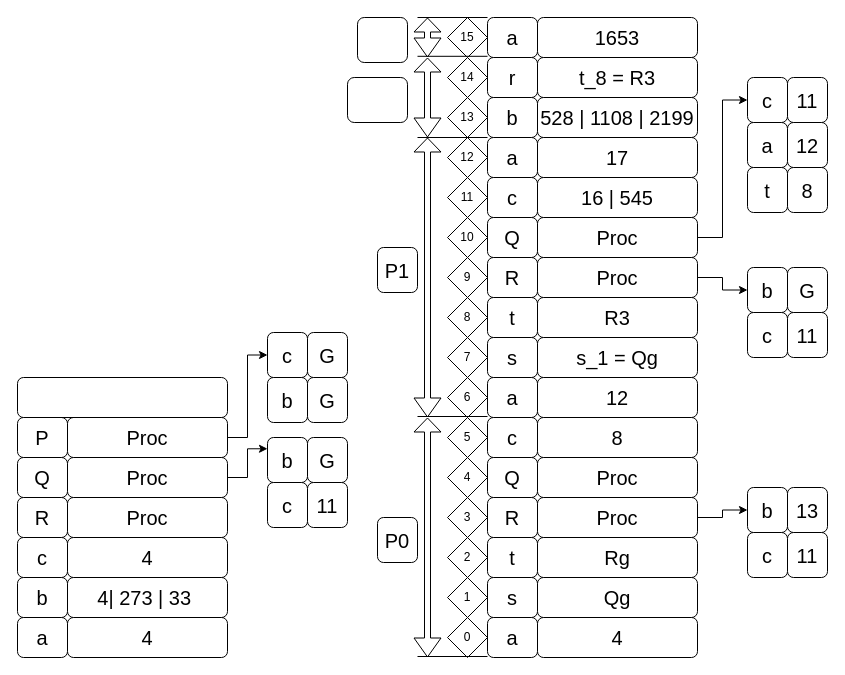
This 845x675 diagram has some shape labels left out. The shapes that lost their labels are listed below. From the top down, each one's centre as x and y in pixels, then its label:
At (382,39): "t_8".
At (377,99): "Q_10".
At (122,397): "Global".
